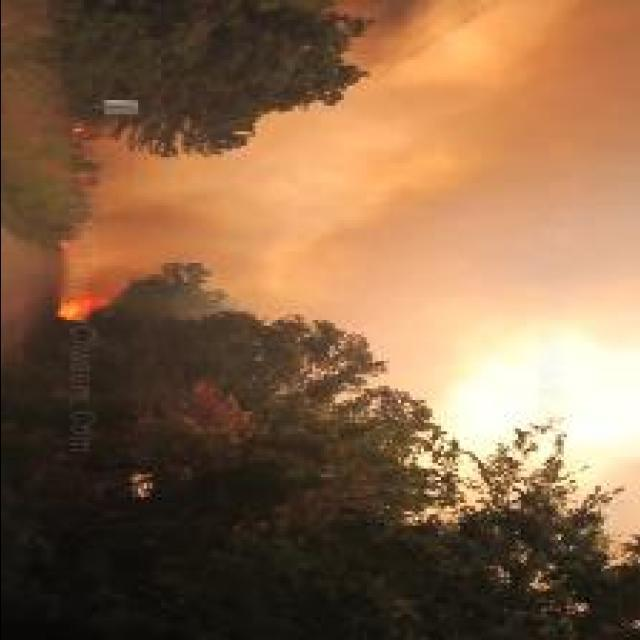Fire: (56, 298, 110, 326)
